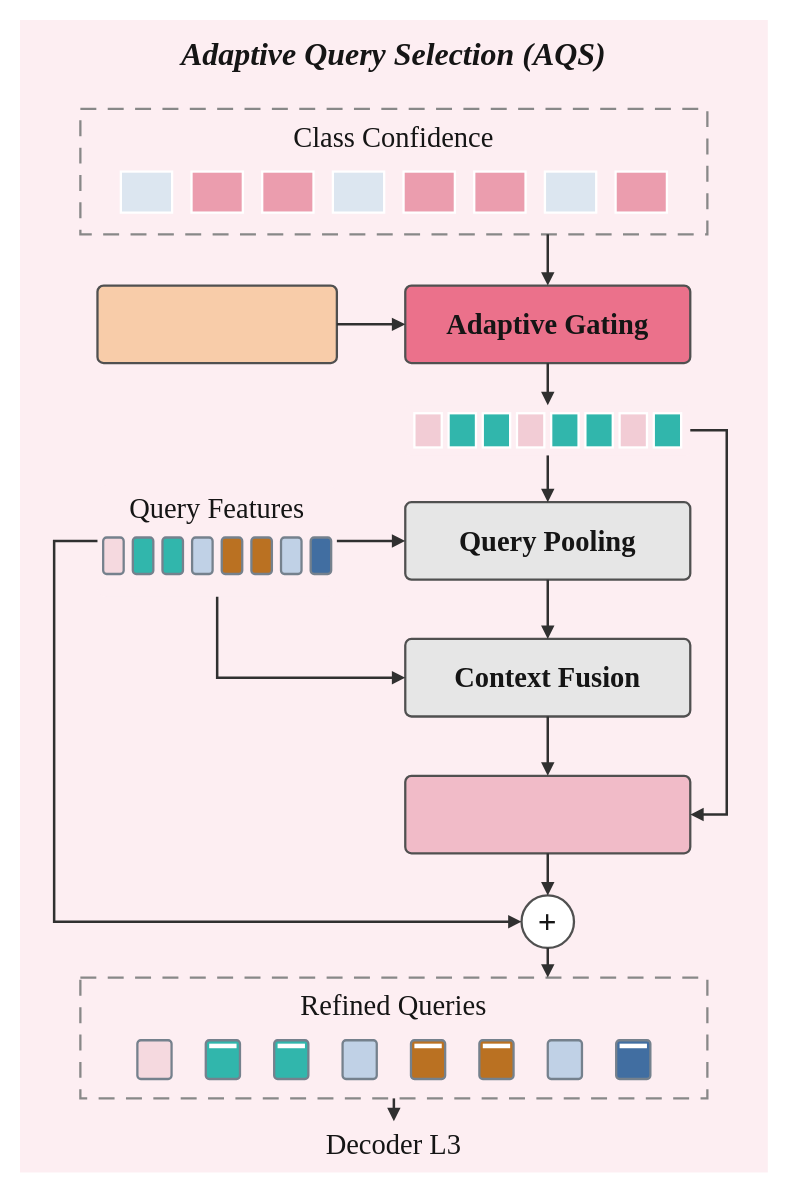
Some shapes in this 787 by 1191 pixel diagram are drawn without their labels. The centre of each missing label's shape, as x and y in pixels:
"Gated Residual" belongs at pixel 547 814.
"Threshold" belongs at pixel 216 324.
